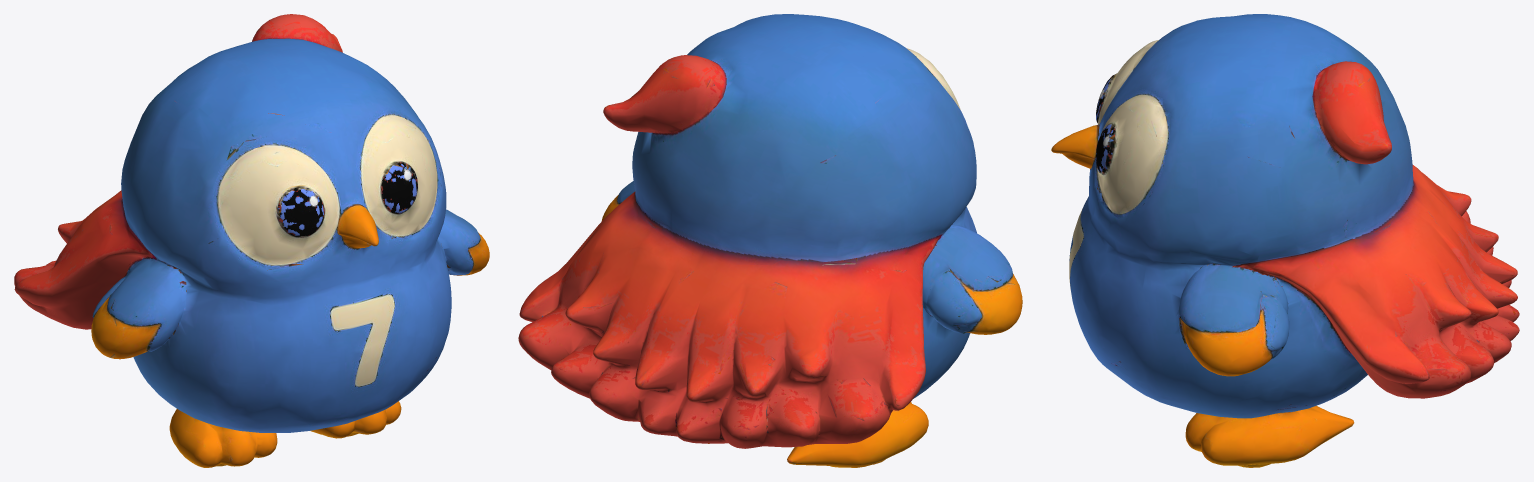
File: mathwings.glb
3 renders of one model, left to right at view 1: azimuth 30°, elevation 25°; view 2: azimuth 150°, elevation 25°; view 3: azimuth 270°, elevation 25°, orthographic. The views are drawn at different scales.
Bounding box in the file's own units: 1.87 × 1.78 × 1.91.
1 material, 1 textured.
